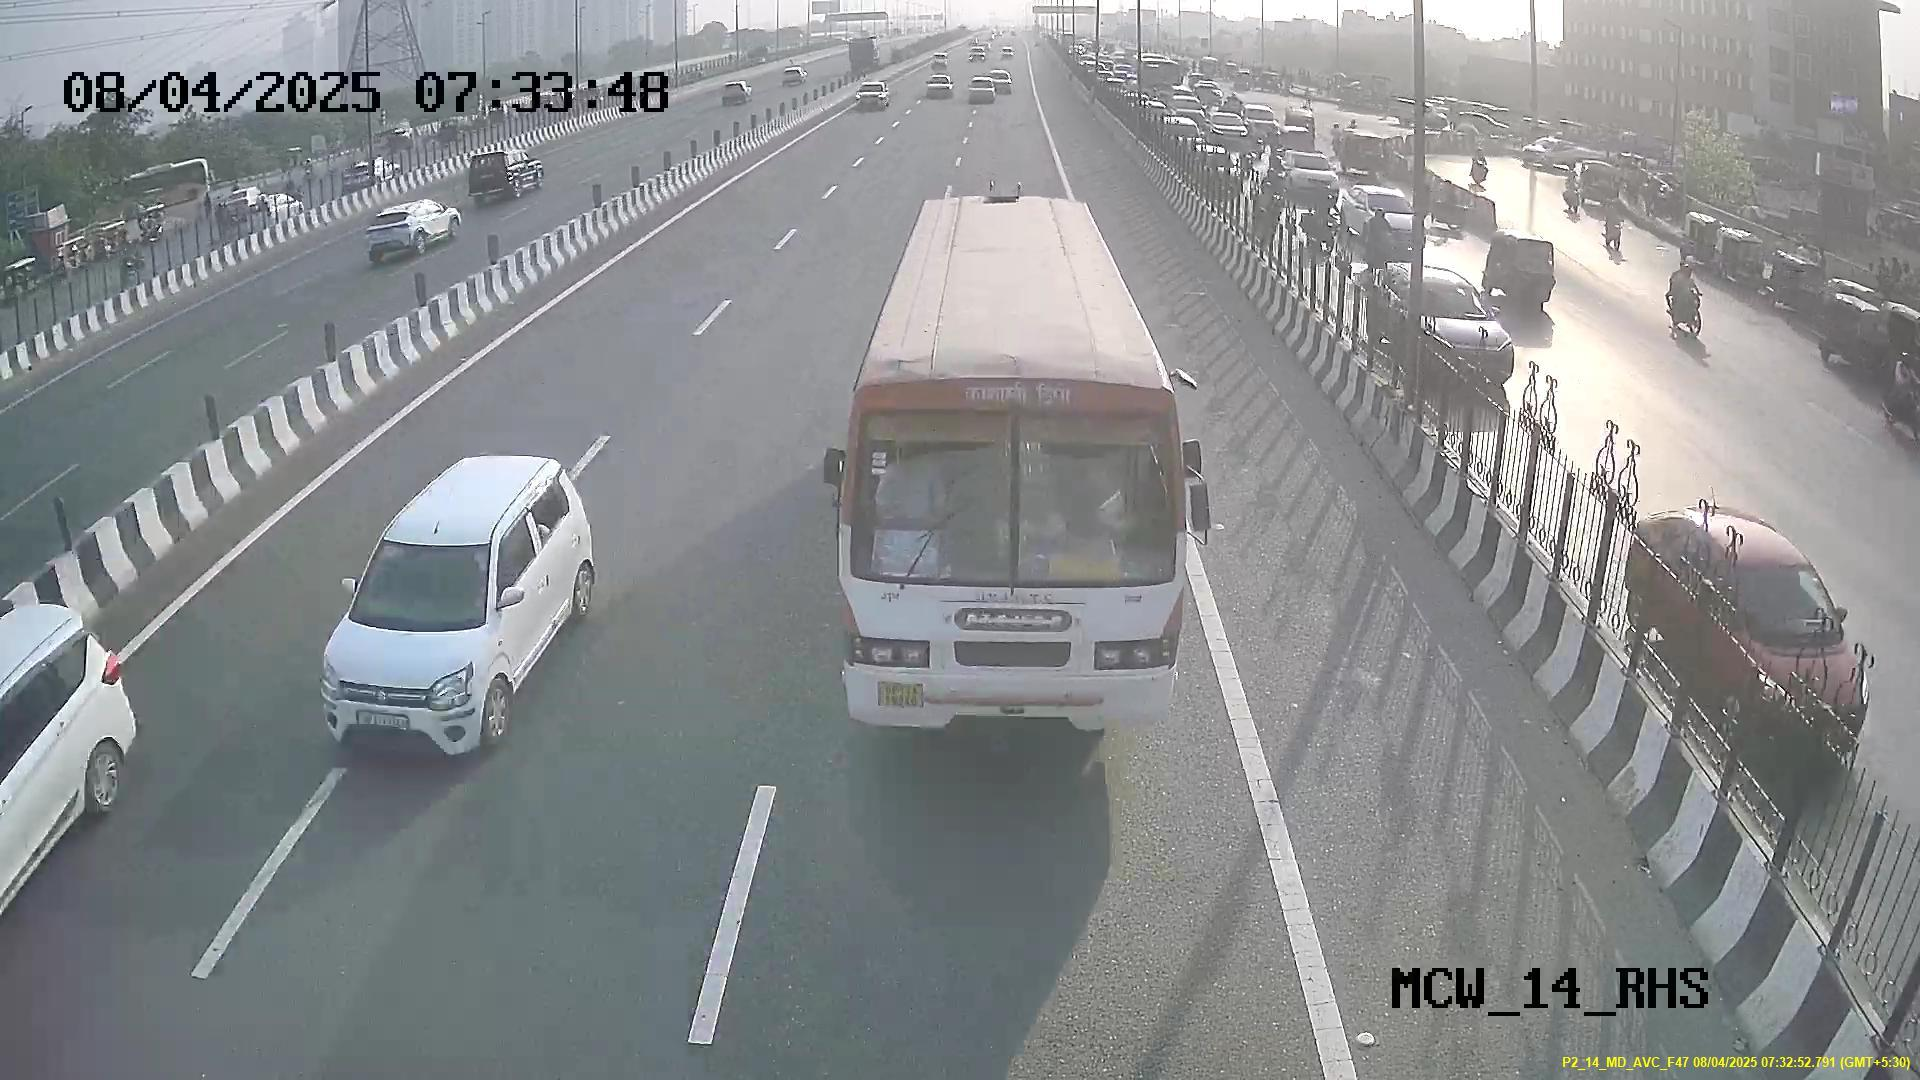bus: (825, 293, 1207, 742)
car: (319, 501, 543, 760)
